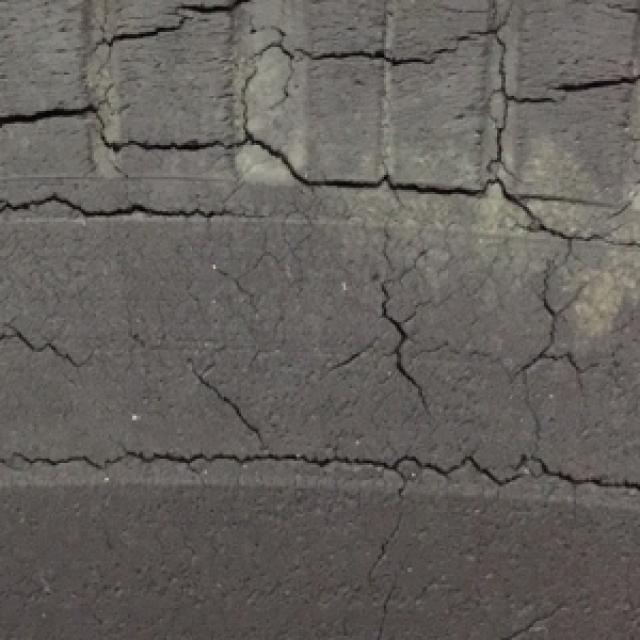Cracks: (0, 0, 640, 508), (340, 510, 424, 638), (465, 587, 585, 638)
